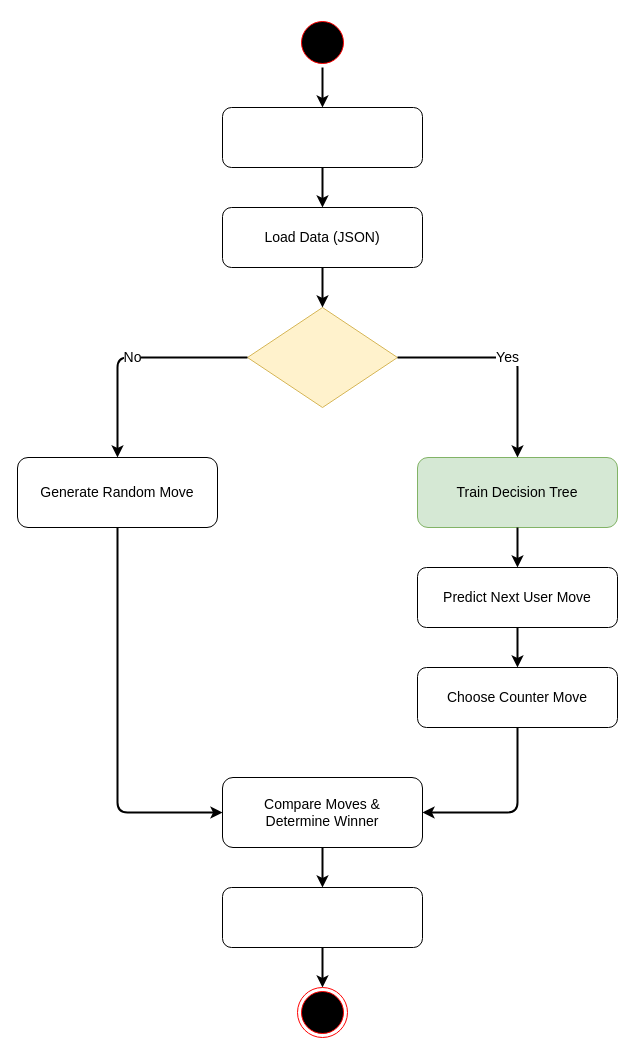
Image size: 635x1055. Some labels were removed from this diagram. The box of each missing label's shape, as (x1, y1, x2, y2) in pixels:
History > 5?: (246, 306, 398, 408)
Receive User Move: (222, 106, 422, 168)
Save JSON & Return: (222, 886, 422, 948)
